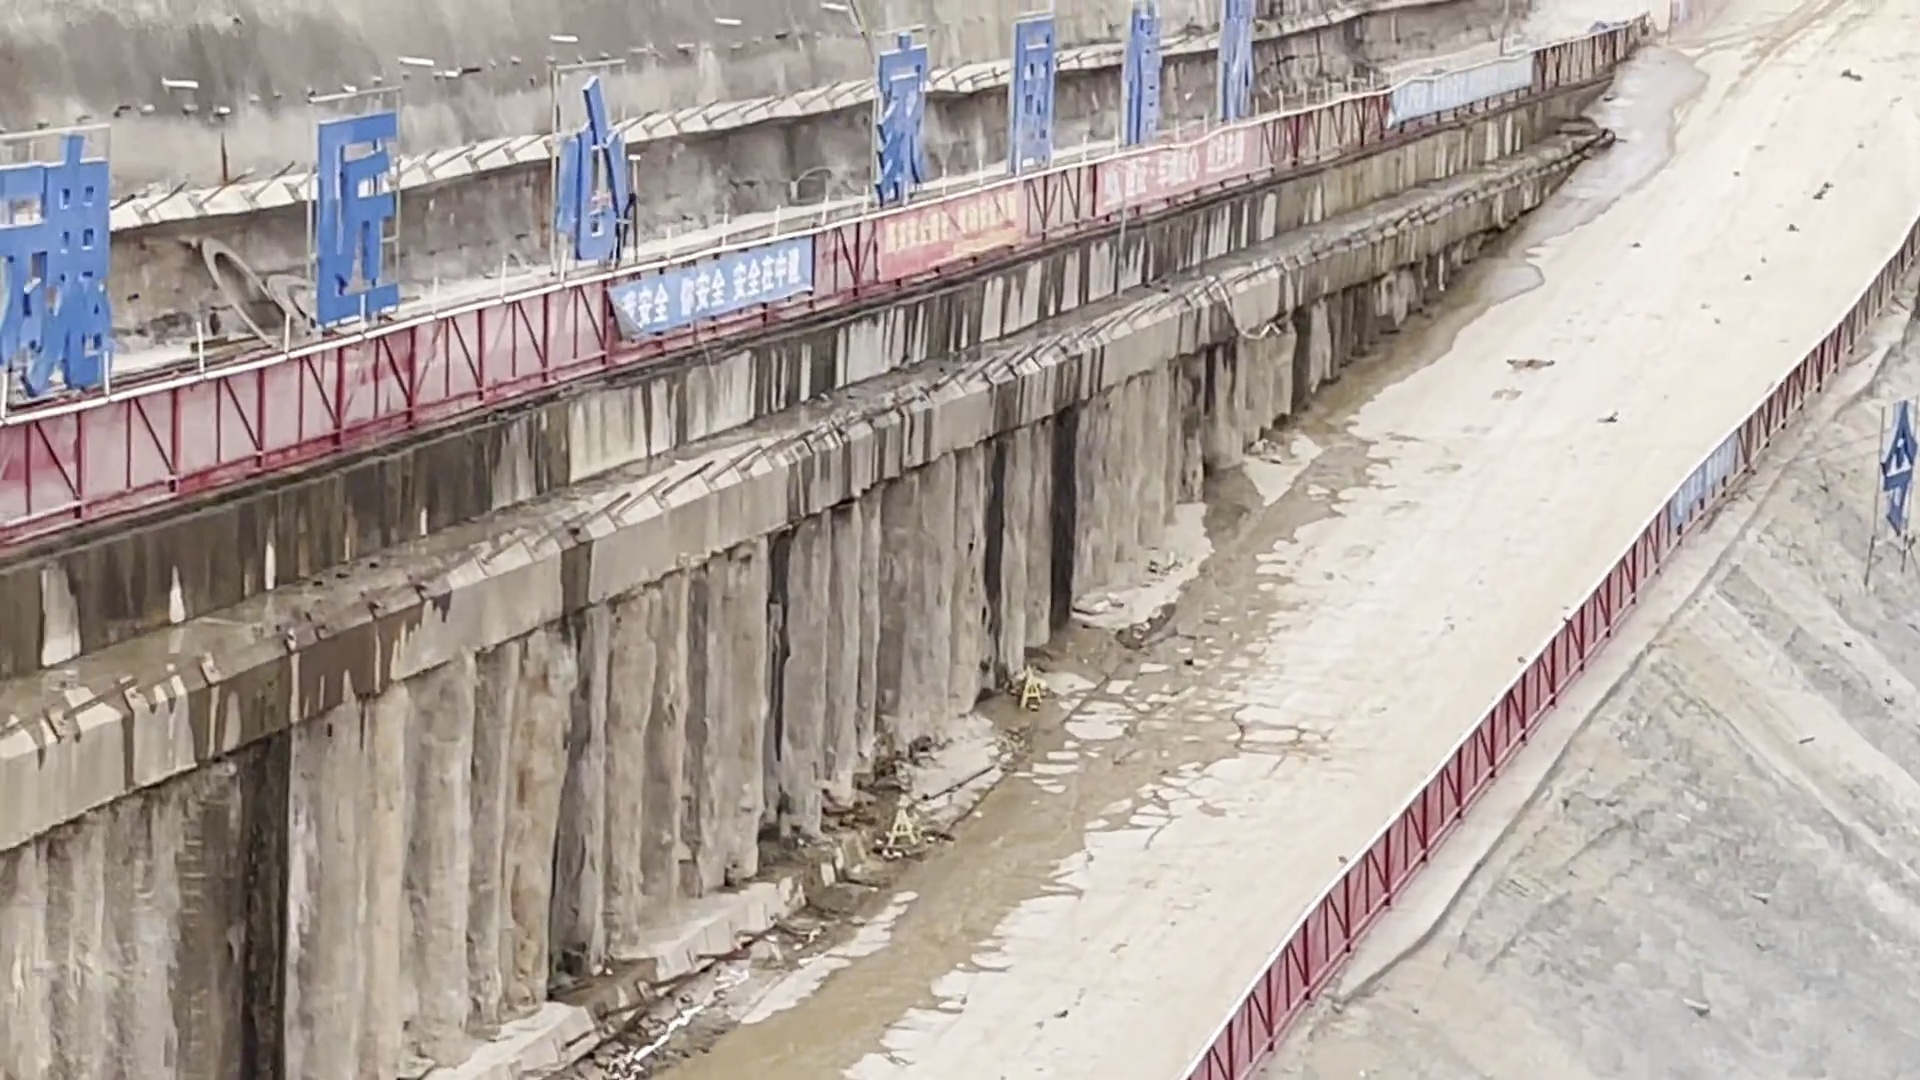fence: (11, 25, 1636, 543), (1187, 218, 1915, 1080)
slogan: (13, 50, 624, 397), (884, 5, 1267, 204), (625, 233, 818, 349), (1096, 125, 1266, 216), (887, 191, 1029, 273), (1389, 50, 1545, 121), (1673, 438, 1733, 531)
